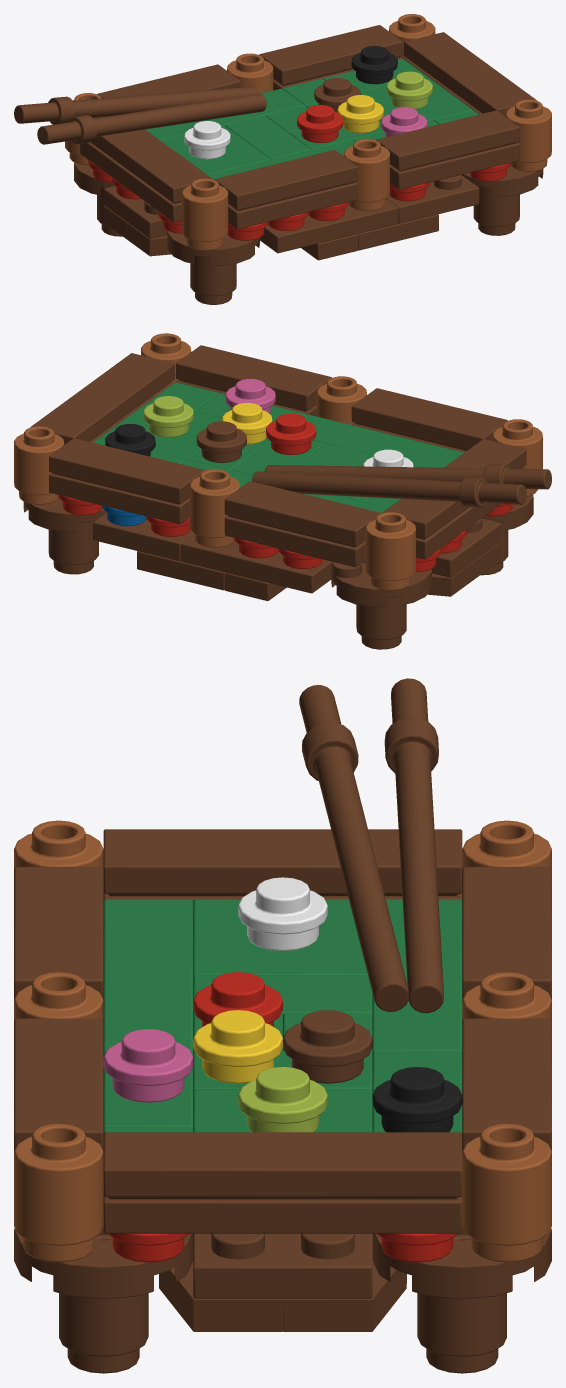
Rendered from PoolTable.fbx.
The picture shows the model from 3 angles, top to bottom: view 1: azimuth 30°, elevation 25°; view 2: azimuth 150°, elevation 25°; view 3: azimuth 270°, elevation 25°; orthographic projection. The views are drawn at different scales.
Parts seen in each view (by area): view 1: 00040_2431.dat, 00044_63864.dat, 00043_63864.dat, 00079_63965.dat, 00042_63864.dat, 00039_2431.dat, 00078_63965.dat, 00007_3623.dat, 00070_3062b.dat, 00035_3623.dat, 00036_3623.dat, 00073_3062b.dat (+38 smaller); view 2: 00040_2431.dat, 00078_63965.dat, 00041_63864.dat, 00042_63864.dat, 00044_63864.dat, 00043_63864.dat, 00008_3623.dat, 00079_63965.dat, 00071_3062b.dat, 00039_2431.dat, 00051_2431.dat, 00034_3623.dat (+39 smaller); view 3: 00040_2431.dat, 00039_2431.dat, 00079_63965.dat, 00078_63965.dat, 00051_2431.dat, 00032_3710.dat, 00017_3022.dat, 00072_3062b.dat, 00073_3062b.dat, 00042_63864.dat, 00043_63864.dat, 00041_63864.dat (+28 smaller).
Part boxes in pixels (left/top/right/bottom): 00040_2431.dat: left=404, top=32, right=536, bottom=116; 00044_63864.dat: left=214, top=150, right=357, bottom=210; 00043_63864.dat: left=376, top=110, right=519, bottom=171; 00079_63965.dat: left=37, top=93, right=266, bottom=144; 00042_63864.dat: left=259, top=25, right=402, bottom=85; 00039_2431.dat: left=90, top=117, right=212, bottom=203; 00078_63965.dat: left=14, top=86, right=258, bottom=124; 00007_3623.dat: left=260, top=198, right=398, bottom=253; 00070_3062b.dat: left=182, top=178, right=228, bottom=250; 00035_3623.dat: left=390, top=142, right=519, bottom=189; 00036_3623.dat: left=228, top=182, right=357, bottom=229; 00073_3062b.dat: left=505, top=99, right=551, bottom=171; 00040_2431.dat: left=30, top=353, right=174, bottom=444; 00078_63965.dat: left=252, top=471, right=526, bottom=507; 00041_63864.dat: left=224, top=481, right=380, bottom=547; 00042_63864.dat: left=49, top=438, right=204, bottom=504; 00044_63864.dat: left=351, top=388, right=507, bottom=450; 00043_63864.dat: left=176, top=345, right=331, bottom=411; 00008_3623.dat: left=181, top=534, right=332, bottom=593; 00079_63965.dat: left=264, top=463, right=551, bottom=489; 00071_3062b.dat: left=365, top=512, right=415, bottom=590; 00039_2431.dat: left=382, top=439, right=526, bottom=539; 00051_2431.dat: left=304, top=414, right=463, bottom=467; 00034_3623.dat: left=224, top=515, right=365, bottom=567; 00040_2431.dat: left=103, top=1132, right=462, bottom=1199; 00039_2431.dat: left=103, top=829, right=462, bottom=896; 00079_63965.dat: left=299, top=685, right=408, bottom=1011; 00078_63965.dat: left=384, top=678, right=443, bottom=1013; 00051_2431.dat: left=103, top=899, right=193, bottom=1052; 00032_3710.dat: left=103, top=1196, right=462, bottom=1233; 00017_3022.dat: left=193, top=1233, right=372, bottom=1298; 00072_3062b.dat: left=462, top=1123, right=551, bottom=1262; 00073_3062b.dat: left=14, top=1123, right=103, bottom=1262; 00042_63864.dat: left=462, top=1018, right=551, bottom=1151; 00043_63864.dat: left=14, top=1018, right=103, bottom=1151; 00041_63864.dat: left=462, top=867, right=551, bottom=999.
Size of the model in its own units: 218 by 76.09 by 120.
